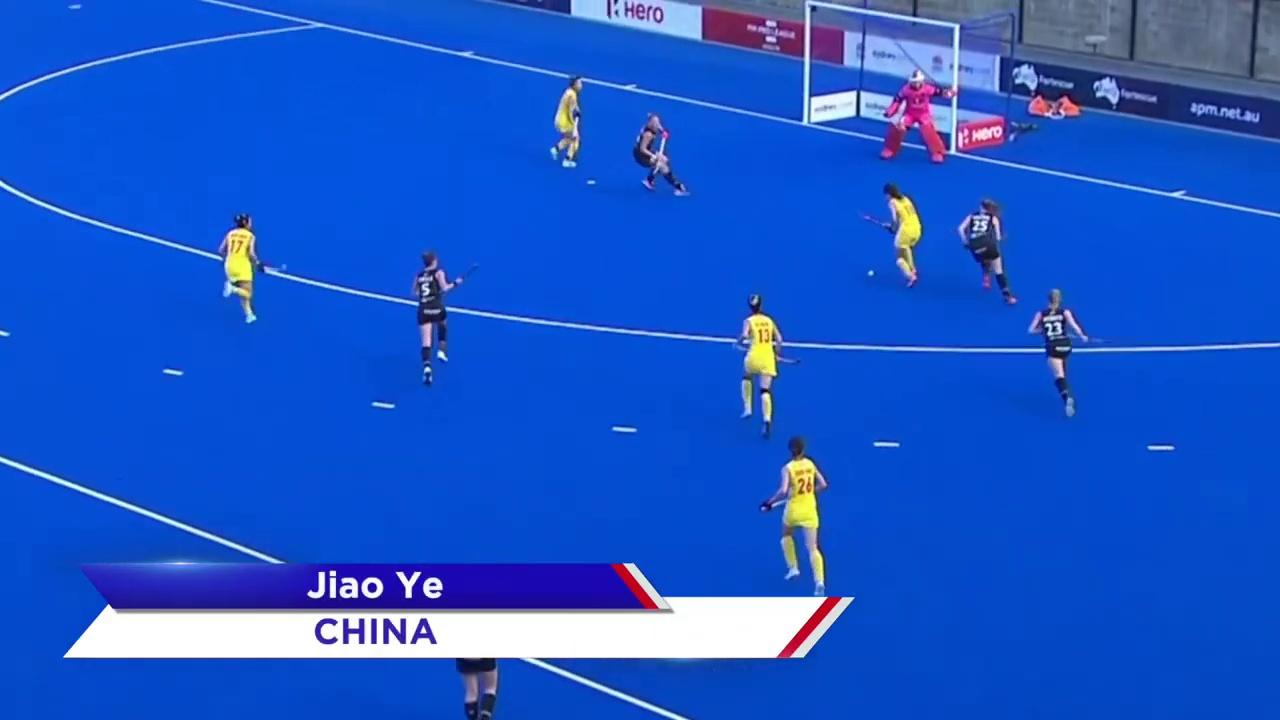ball: (865, 258, 878, 281)
